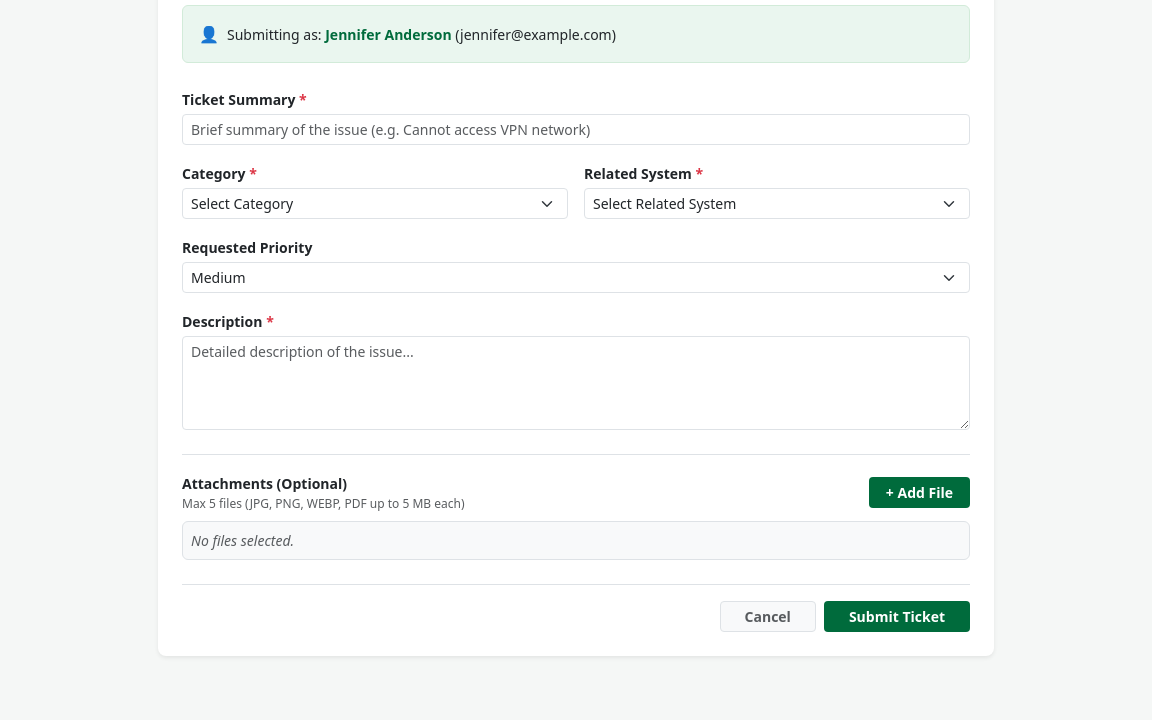
Test: CreateTicketPage Component › clears a field's error as soon as the user starts correcting it
(page scrolled)
Click the button "Submit Ticket".
click(897, 616)  # box x1=824 y1=601 x2=970 y2=632
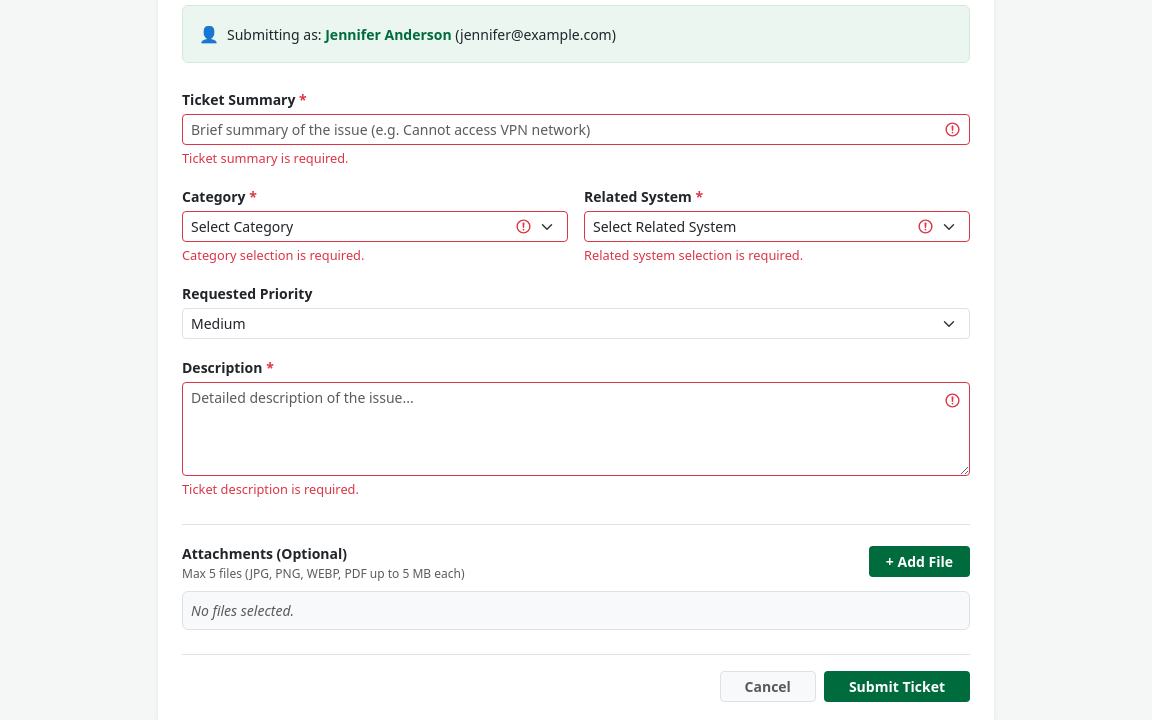
Expected: the text "Ticket summary is required." is shown, x1=182 y1=149 x2=348 y2=167
Type "Cannot access VPN" into the field labelled "Ticket Summary *".
click(576, 130); type("Cannot access VPN")  # box x1=182 y1=114 x2=970 y2=145
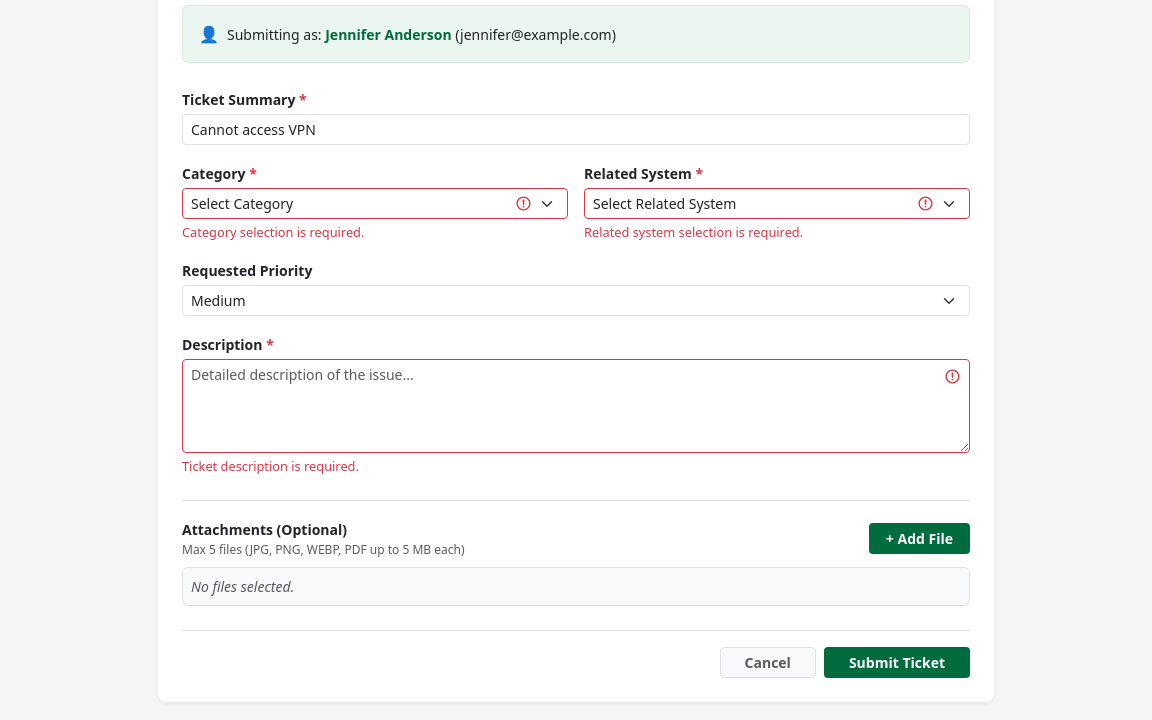
Expected: the text "Ticket summary is required." is gone
